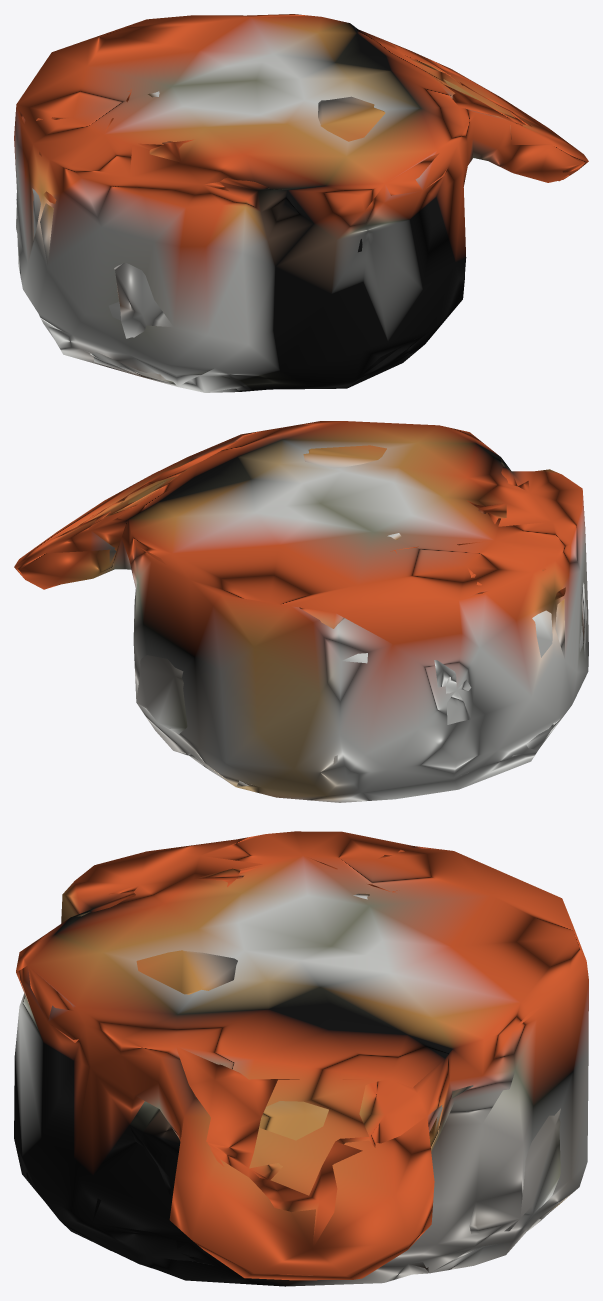
The model's file is gen3d-sushi-lod0.glb.
3 views of the same model, one above another, from view 1: azimuth 30°, elevation 25°; view 2: azimuth 150°, elevation 25°; view 3: azimuth 270°, elevation 25° (orthographic). The views are drawn at different scales.
Parts seen in each view (by area): view 1: part_0; view 2: part_0; view 3: part_0.
Boxes of the visible parts, x1,y1,x2,y2 form: part_0: [14, 14, 588, 392]; part_0: [14, 421, 588, 802]; part_0: [14, 831, 588, 1286].
Bounding box in the file's own units: 2.48 × 1 × 1.92.
